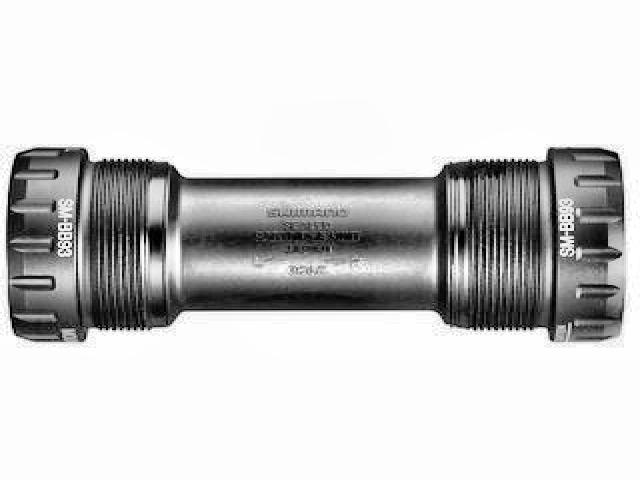bottom_bracket: (5, 144, 626, 344)
